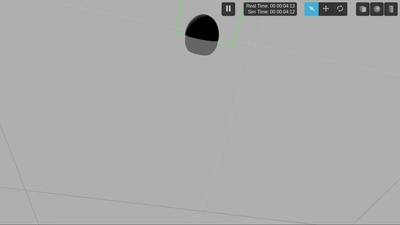mira_robot: (185, 13, 220, 56)
